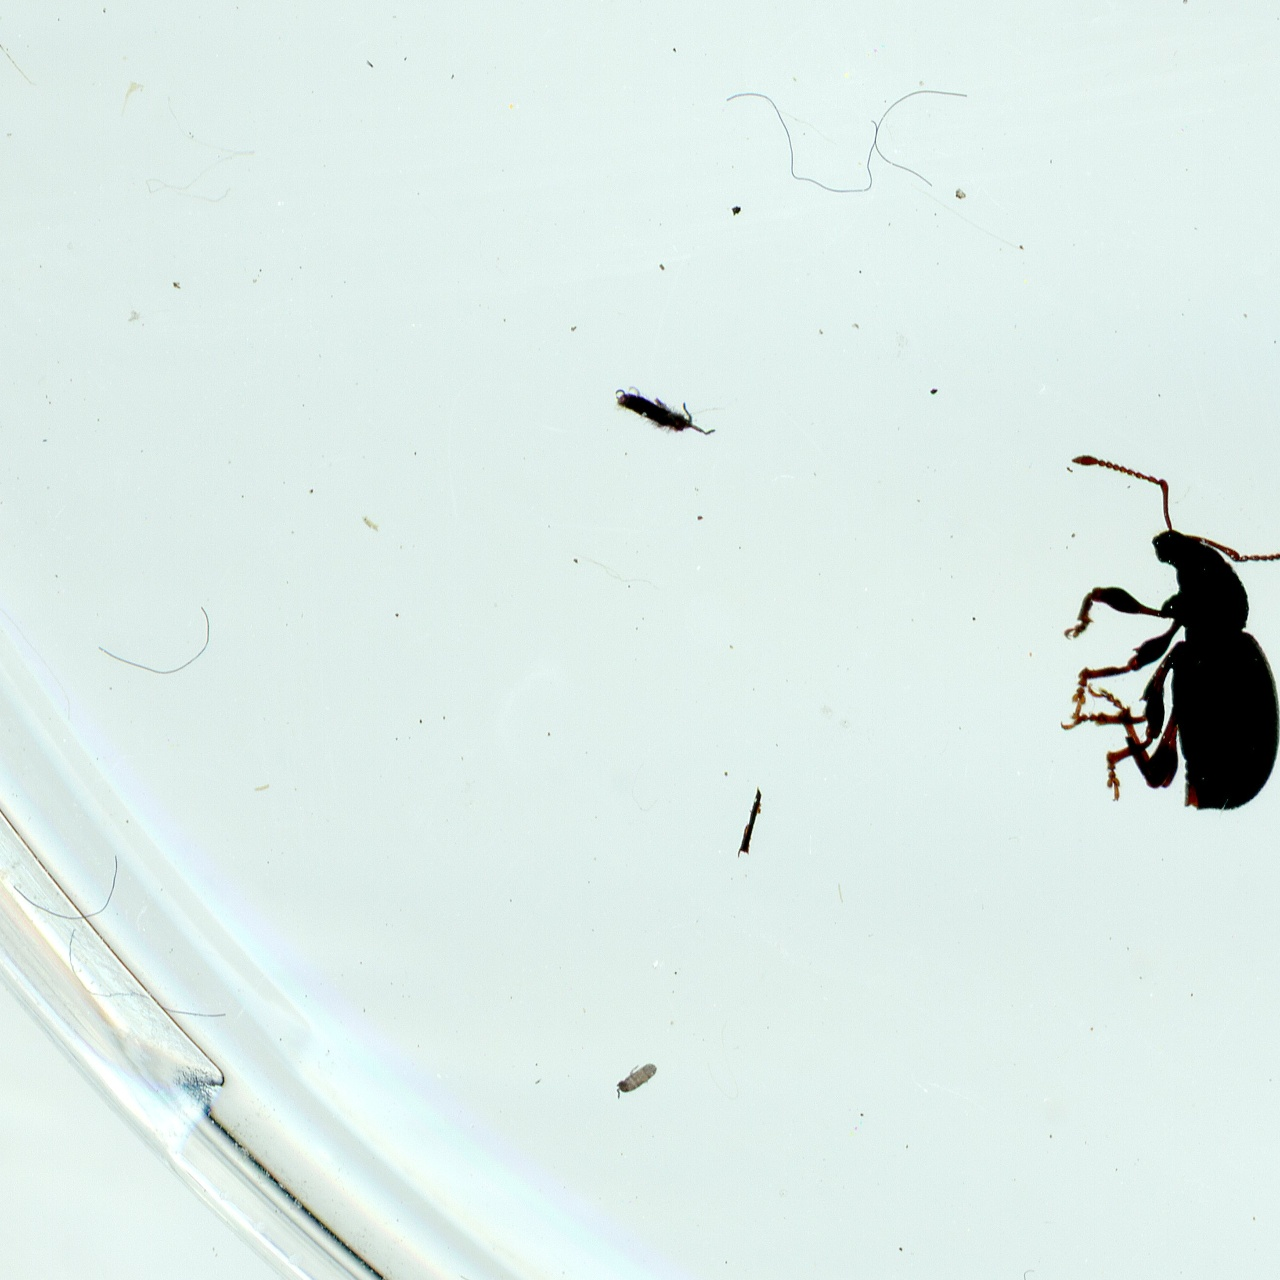arthropod: (1055, 448, 1280, 821), (610, 380, 720, 448), (612, 1058, 662, 1104)
